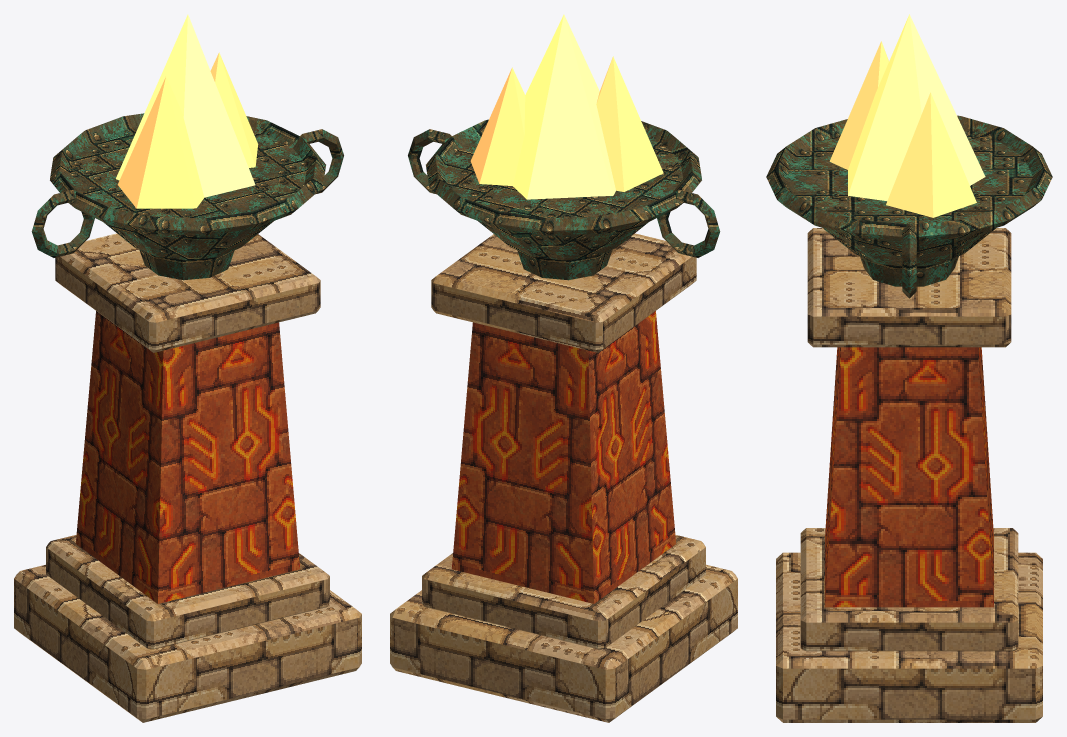
The model's file is ruins_brazier.glb.
3 renders of one model, left to right at view 1: azimuth 30°, elevation 25°; view 2: azimuth 150°, elevation 25°; view 3: azimuth 270°, elevation 25°, orthographic. The views are drawn at different scales.
Visible parts, largest first — view 1: Stand, Bowl, Flame; view 2: Stand, Bowl, Flame; view 3: Stand, Bowl, Flame.
Boxes of the visible parts, x1,y1,x2,y2 form: Stand: (14, 233, 361, 722); Bowl: (31, 113, 343, 280); Flame: (116, 14, 258, 208); Stand: (390, 233, 737, 722); Bowl: (408, 119, 720, 280); Flame: (470, 14, 663, 199); Stand: (776, 228, 1042, 722); Bowl: (766, 115, 1052, 298); Flame: (829, 14, 985, 217).
Bounding box in the file's own units: 2.64 × 5.15 × 2.04.
6 materials, 3 textured.
